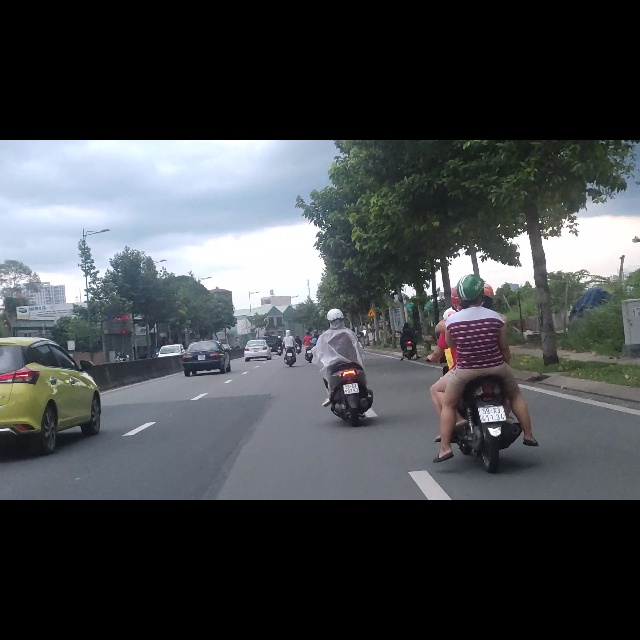bien_nguy_hiem: (367, 297, 377, 314)
